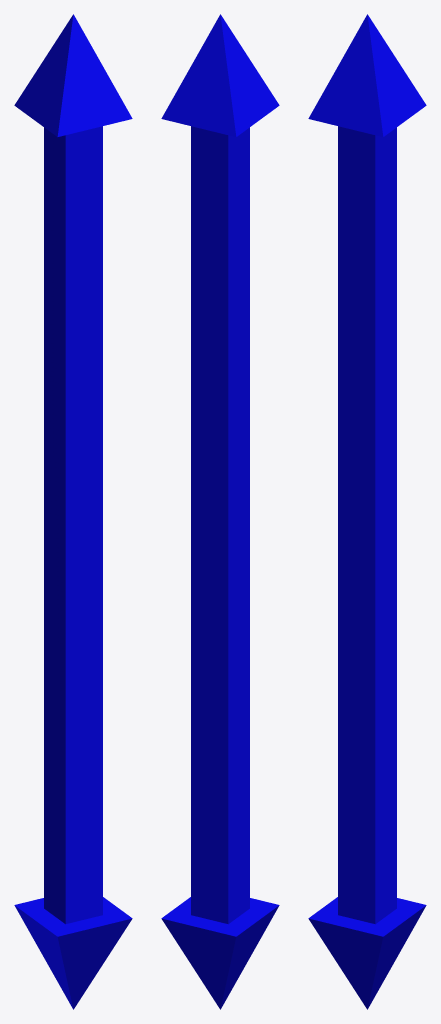
The model's file is PositionGizmo2.obj.
The picture shows the model from 3 angles, left to right: view 1: azimuth 30°, elevation 25°; view 2: azimuth 150°, elevation 25°; view 3: azimuth 330°, elevation 25°; orthographic projection.
Parts seen in each view (by area): view 1: WorldDirection.002_Cube.005; view 2: WorldDirection.002_Cube.005; view 3: WorldDirection.002_Cube.005.
Part boxes in pixels (left/top/right/bottom): WorldDirection.002_Cube.005: left=14, top=14, right=132, bottom=1009; WorldDirection.002_Cube.005: left=161, top=14, right=279, bottom=1009; WorldDirection.002_Cube.005: left=308, top=14, right=426, bottom=1009.
Size of the model in its own units: 0.6 by 7.61 by 0.6.
